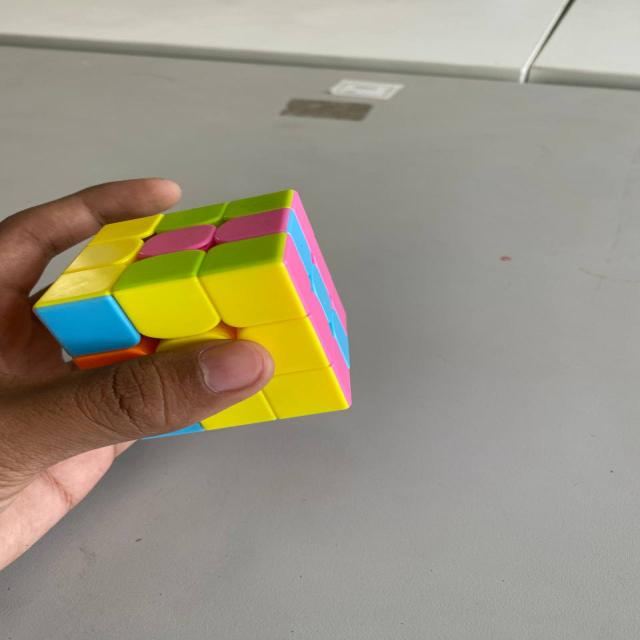Cube-3x3: (37, 194, 367, 461)
